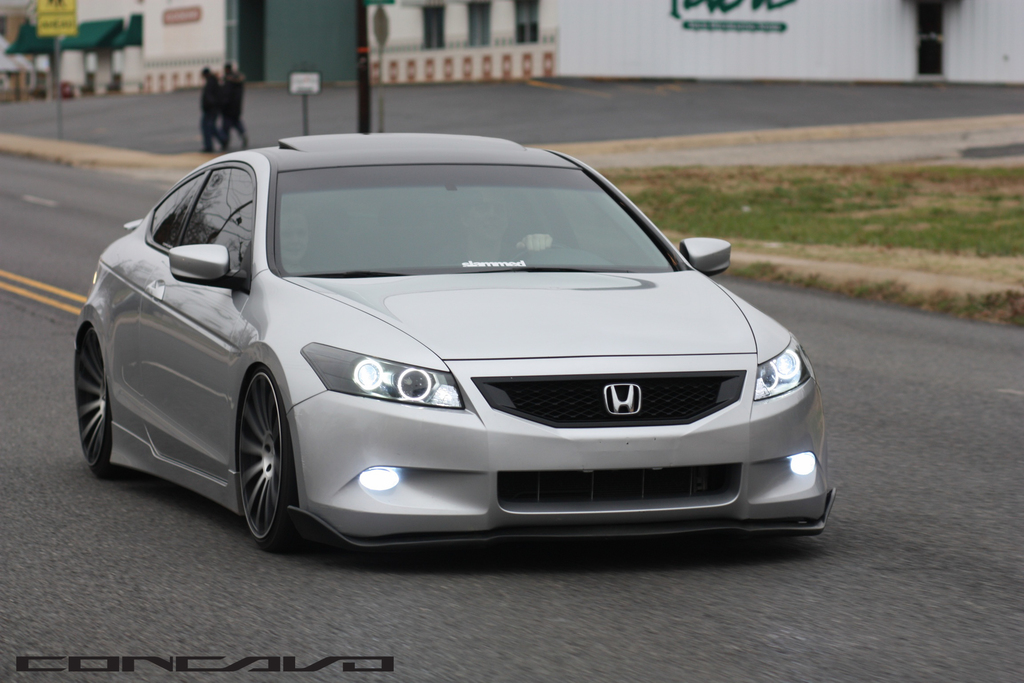Car: (72, 125, 849, 556)
